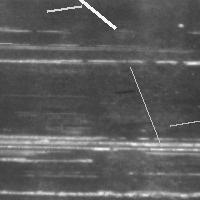scratches: (1, 38, 199, 68), (1, 133, 198, 163), (125, 62, 166, 151), (48, 0, 120, 33), (1, 187, 199, 198), (165, 108, 200, 130), (42, 1, 86, 16), (0, 36, 16, 48)
